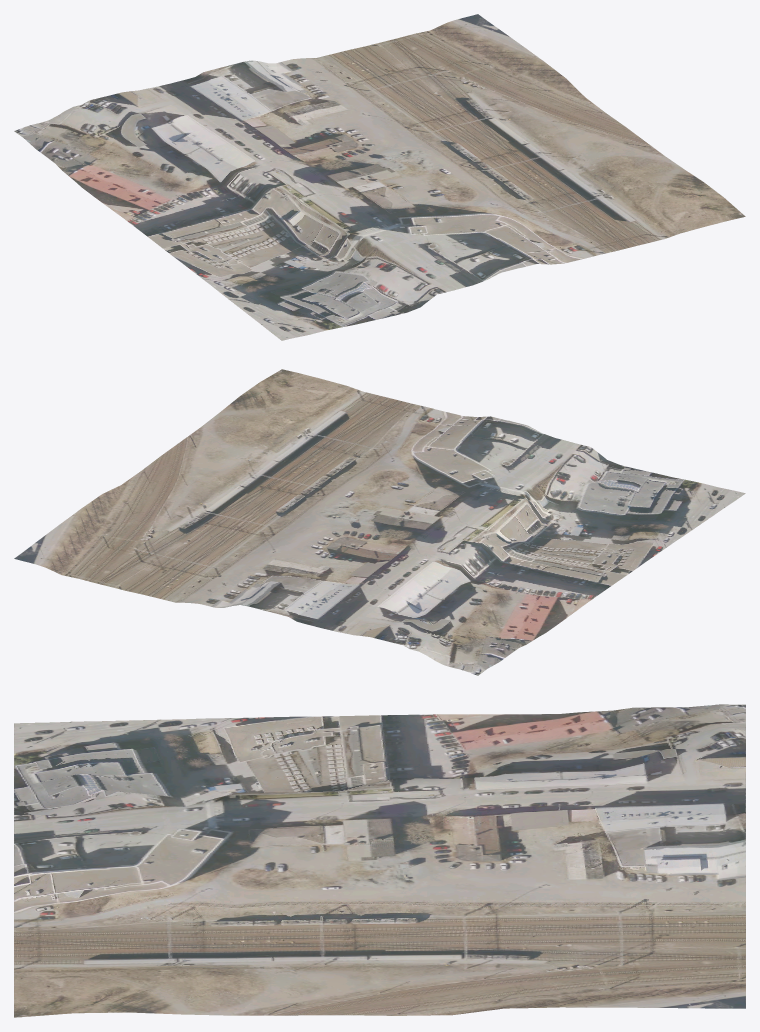
The model's file is CM_Terrain_24487797_6820408.fbx.
The picture shows the model from 3 angles, top to bottom: view 1: azimuth 30°, elevation 25°; view 2: azimuth 150°, elevation 25°; view 3: azimuth 270°, elevation 25°; orthographic projection. The views are drawn at different scales.
Visible parts, largest first — view 1: CM_Terrain_24487797_6820408_LOD0; view 2: CM_Terrain_24487797_6820408_LOD0; view 3: CM_Terrain_24487797_6820408_LOD0.
Part boxes in pixels (x1,y1,x2,y2): CM_Terrain_24487797_6820408_LOD0: [14, 14, 745, 340]; CM_Terrain_24487797_6820408_LOD0: [14, 369, 745, 675]; CM_Terrain_24487797_6820408_LOD0: [14, 704, 745, 1017].
Size of what is drawn, in the model's own units: 205 by 12.57 by 205.
